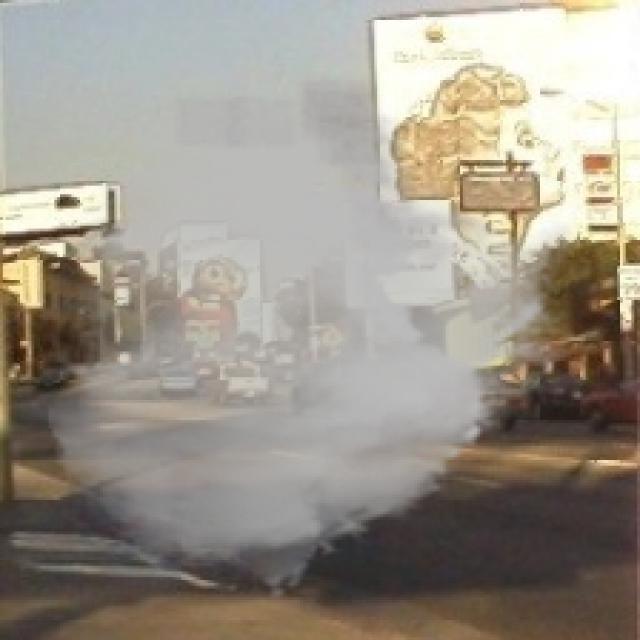smoke: (43, 66, 583, 600)
